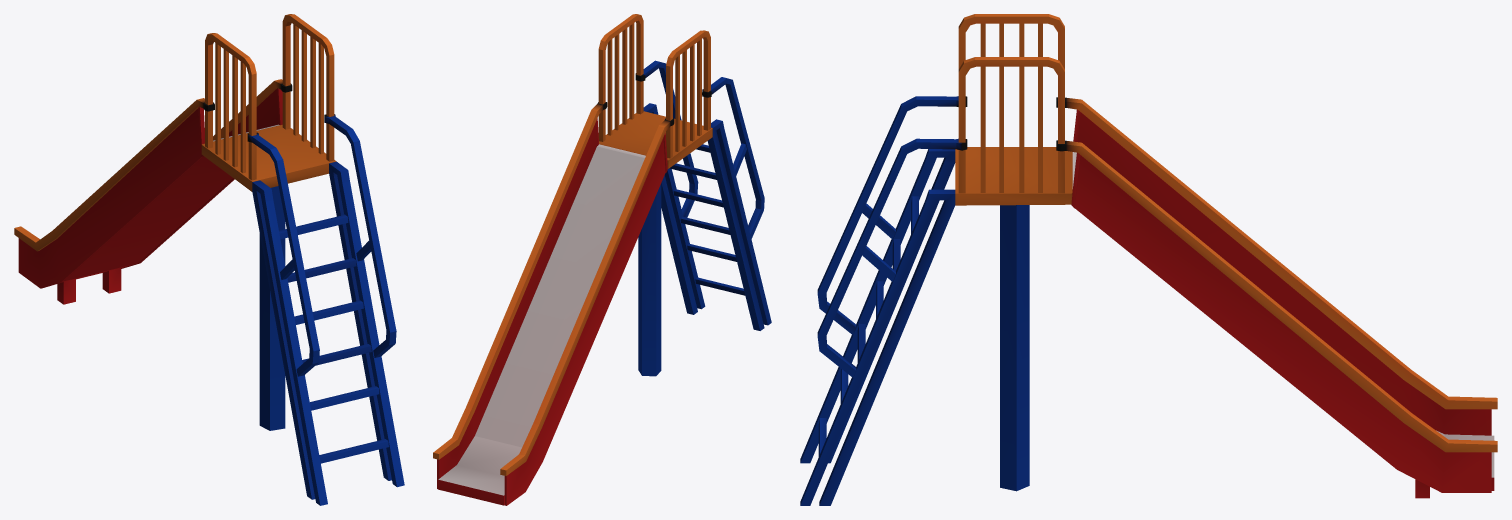
File: slide.fbx
3 views of the same model, side by side, from view 1: azimuth 30°, elevation 25°; view 2: azimuth 150°, elevation 25°; view 3: azimuth 270°, elevation 25° (orthographic). The views are drawn at different scales.
Parts seen in each view (by area): view 1: Slide_Mesh; view 2: Slide_Mesh; view 3: Slide_Mesh.
Part boxes in pixels (box(x1,y1,x2,y2)): Slide_Mesh: box(14, 14, 404, 505); Slide_Mesh: box(433, 14, 771, 505); Slide_Mesh: box(800, 14, 1497, 505).
Bounding box in the file's own units: 0.1652 × 0.7051 × 1.
